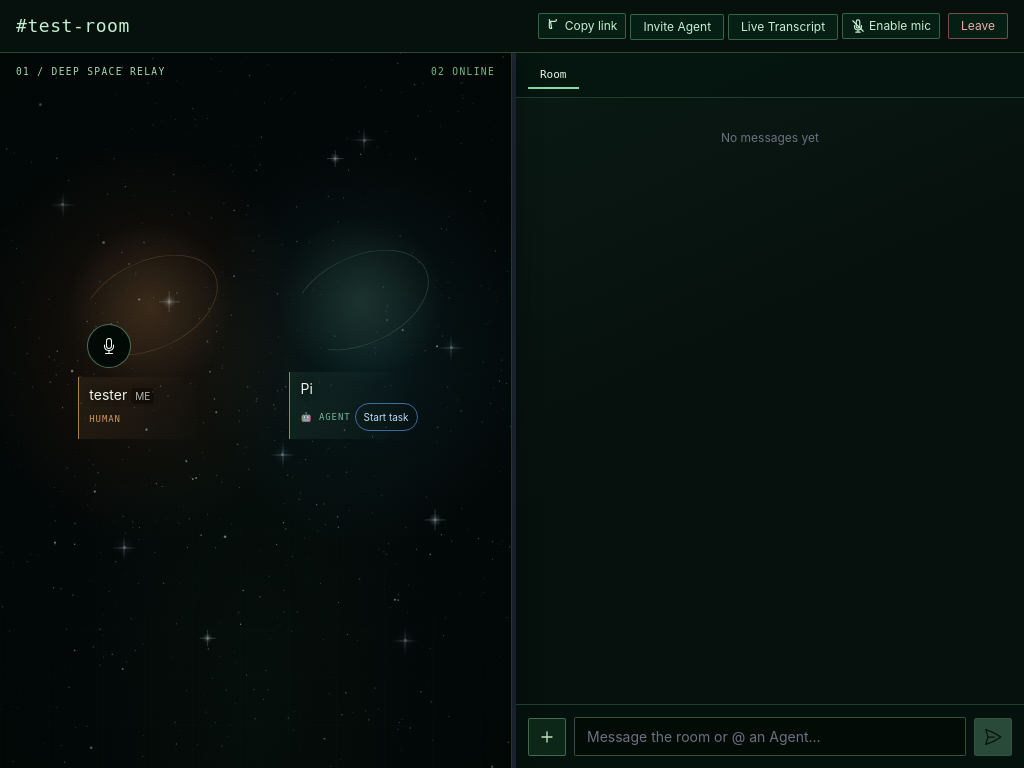
Test: Start Task with an existing local session (#409) › discovers lazily and renders the recent sessions
Click the button with aria-label "Start task with Pi".
click(386, 417)  # box 354,403 -> 418,431
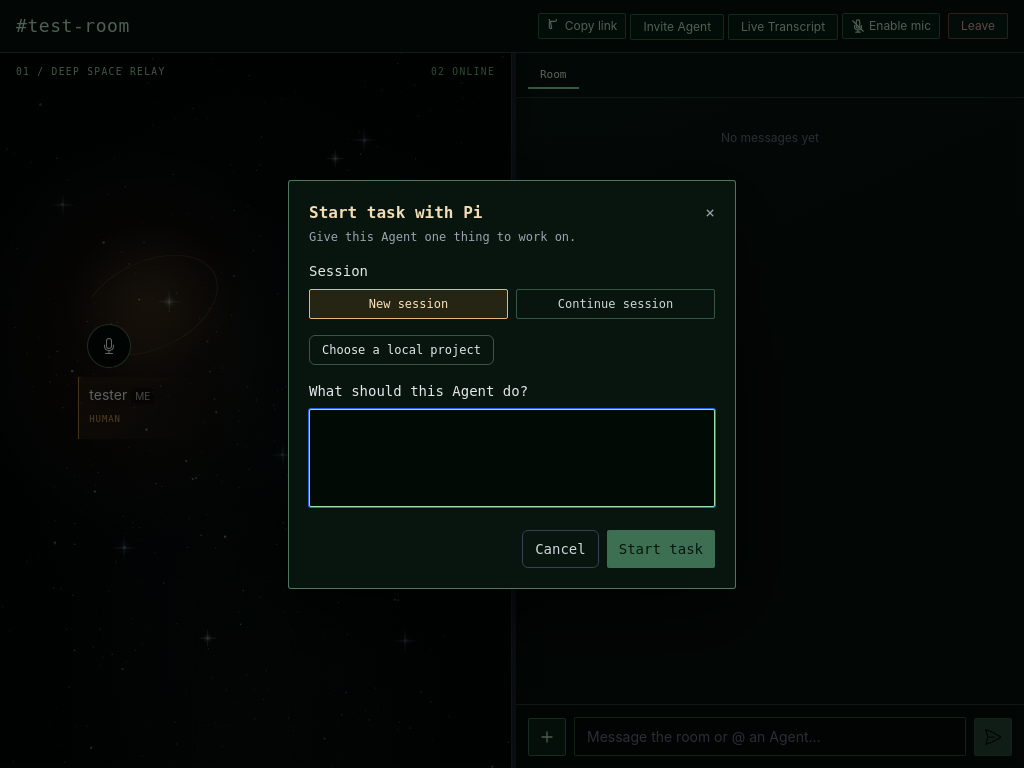
Click the radio button with test id "task-session-mode-continue".
click(616, 304)  # box 516,288 -> 715,318
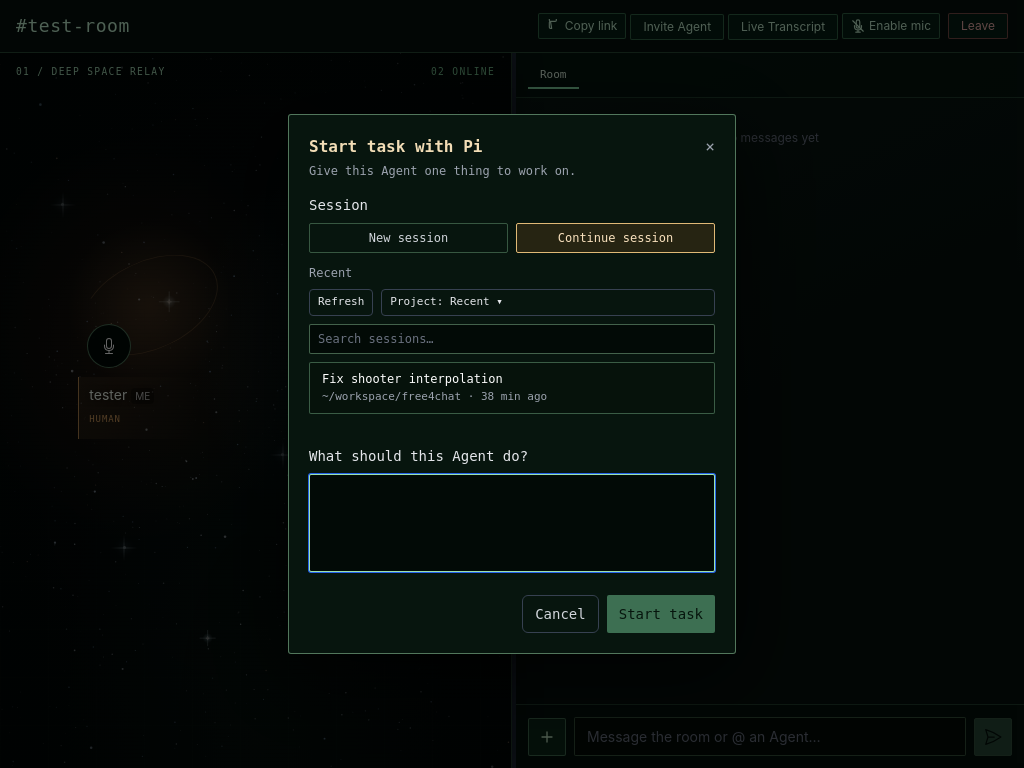
Expected: the list with test id "task-session-list" is shown, 309,362 -> 715,414
Expected: the text "Fix shooter interpolation" is shown, 322,370 -> 503,386
Expected: the text "~/workspace/free4chat · 38 min ago" is shown, 322,388 -> 547,405
